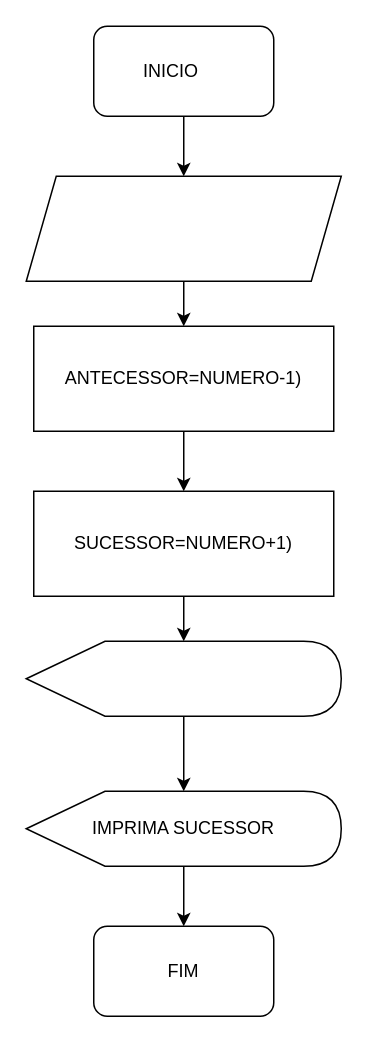
Some shapes in this 368 by 1043 pixel diagram are drawn without their labels. The shapes that lost their labels are listed below. From the top down, each one's centre as x and y in pixels, then its label:
the point at 183,228: INFORME UM NUMERO
the point at 183,678: IMPRIMA ANTECESSOR
